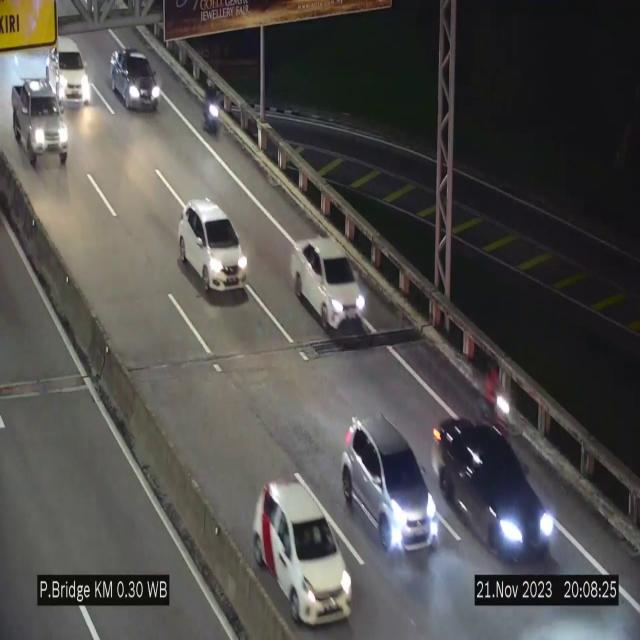Car: (431, 410, 564, 577), (252, 481, 352, 624), (342, 416, 439, 555), (290, 238, 368, 332), (178, 200, 248, 294), (8, 75, 70, 170), (46, 37, 98, 110), (110, 48, 161, 112)
Motorcycle: (486, 362, 510, 442), (203, 80, 221, 140)
